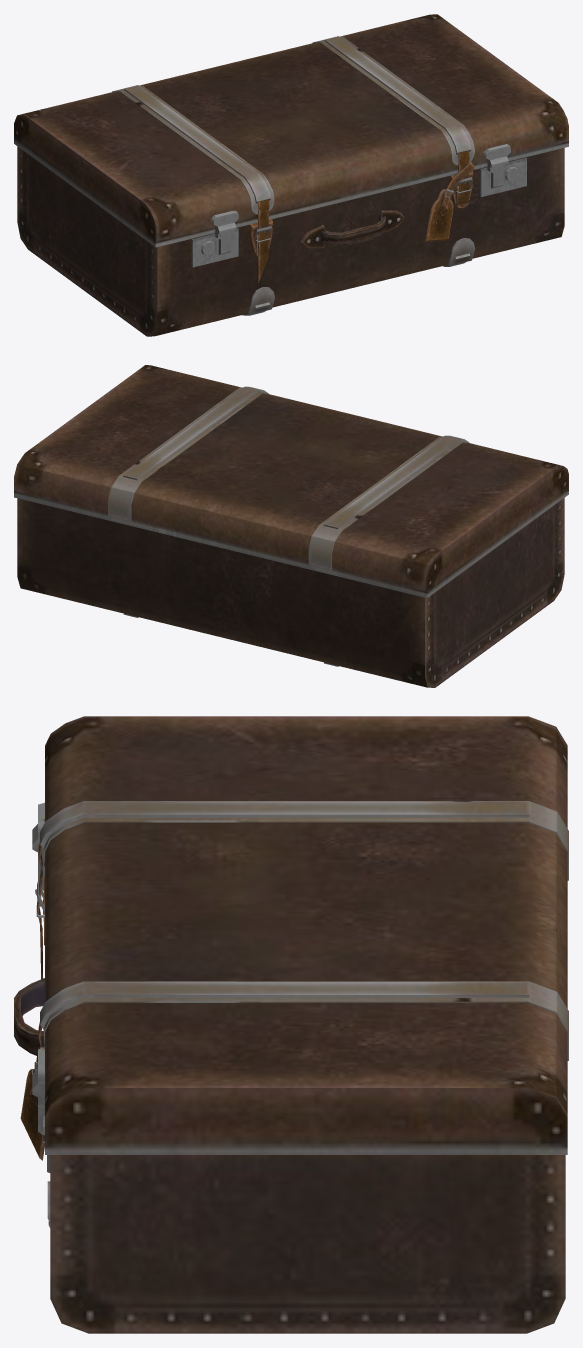
Rendered from Suitcase2.fbx.
3 views of the same model, one above another, from view 1: azimuth 30°, elevation 25°; view 2: azimuth 150°, elevation 25°; view 3: azimuth 270°, elevation 25° (orthographic). The views are drawn at different scales.
Parts seen in each view (by area): view 1: SuitCase.002; view 2: SuitCase.002; view 3: SuitCase.002.
Part boxes in pixels (box(x1,y1,x2,y2)): SuitCase.002: box(14, 14, 568, 336); SuitCase.002: box(14, 365, 568, 687); SuitCase.002: box(14, 716, 568, 1333).
Bounding box in the file's own units: 0.9421 × 0.3065 × 0.5947.
Materials: 1 (1 with a texture image).
